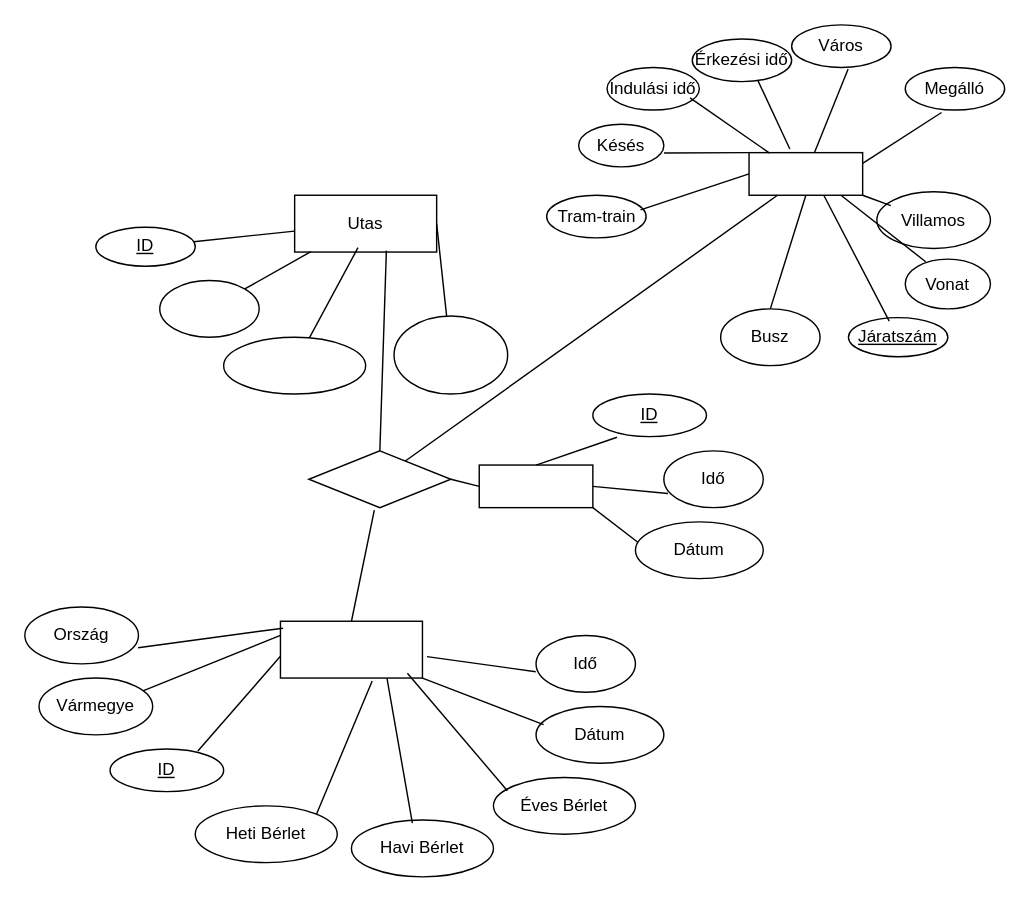
This 1030x902 diagram has some shape labels left out. The shapes that lost their labels are listed below. From the top down, each one's centre as x and y in pixels, then its label:
At (x=805, y=173): "Járművek".
At (x=208, y=308): "Név".
At (x=294, y=365): "Diák ig szám".
At (x=450, y=354): "Személyi ig szám".
At (x=379, y=478): "Vásárlás".
At (x=535, y=486): "Jegy".
At (x=350, y=649): "Bérlet".
